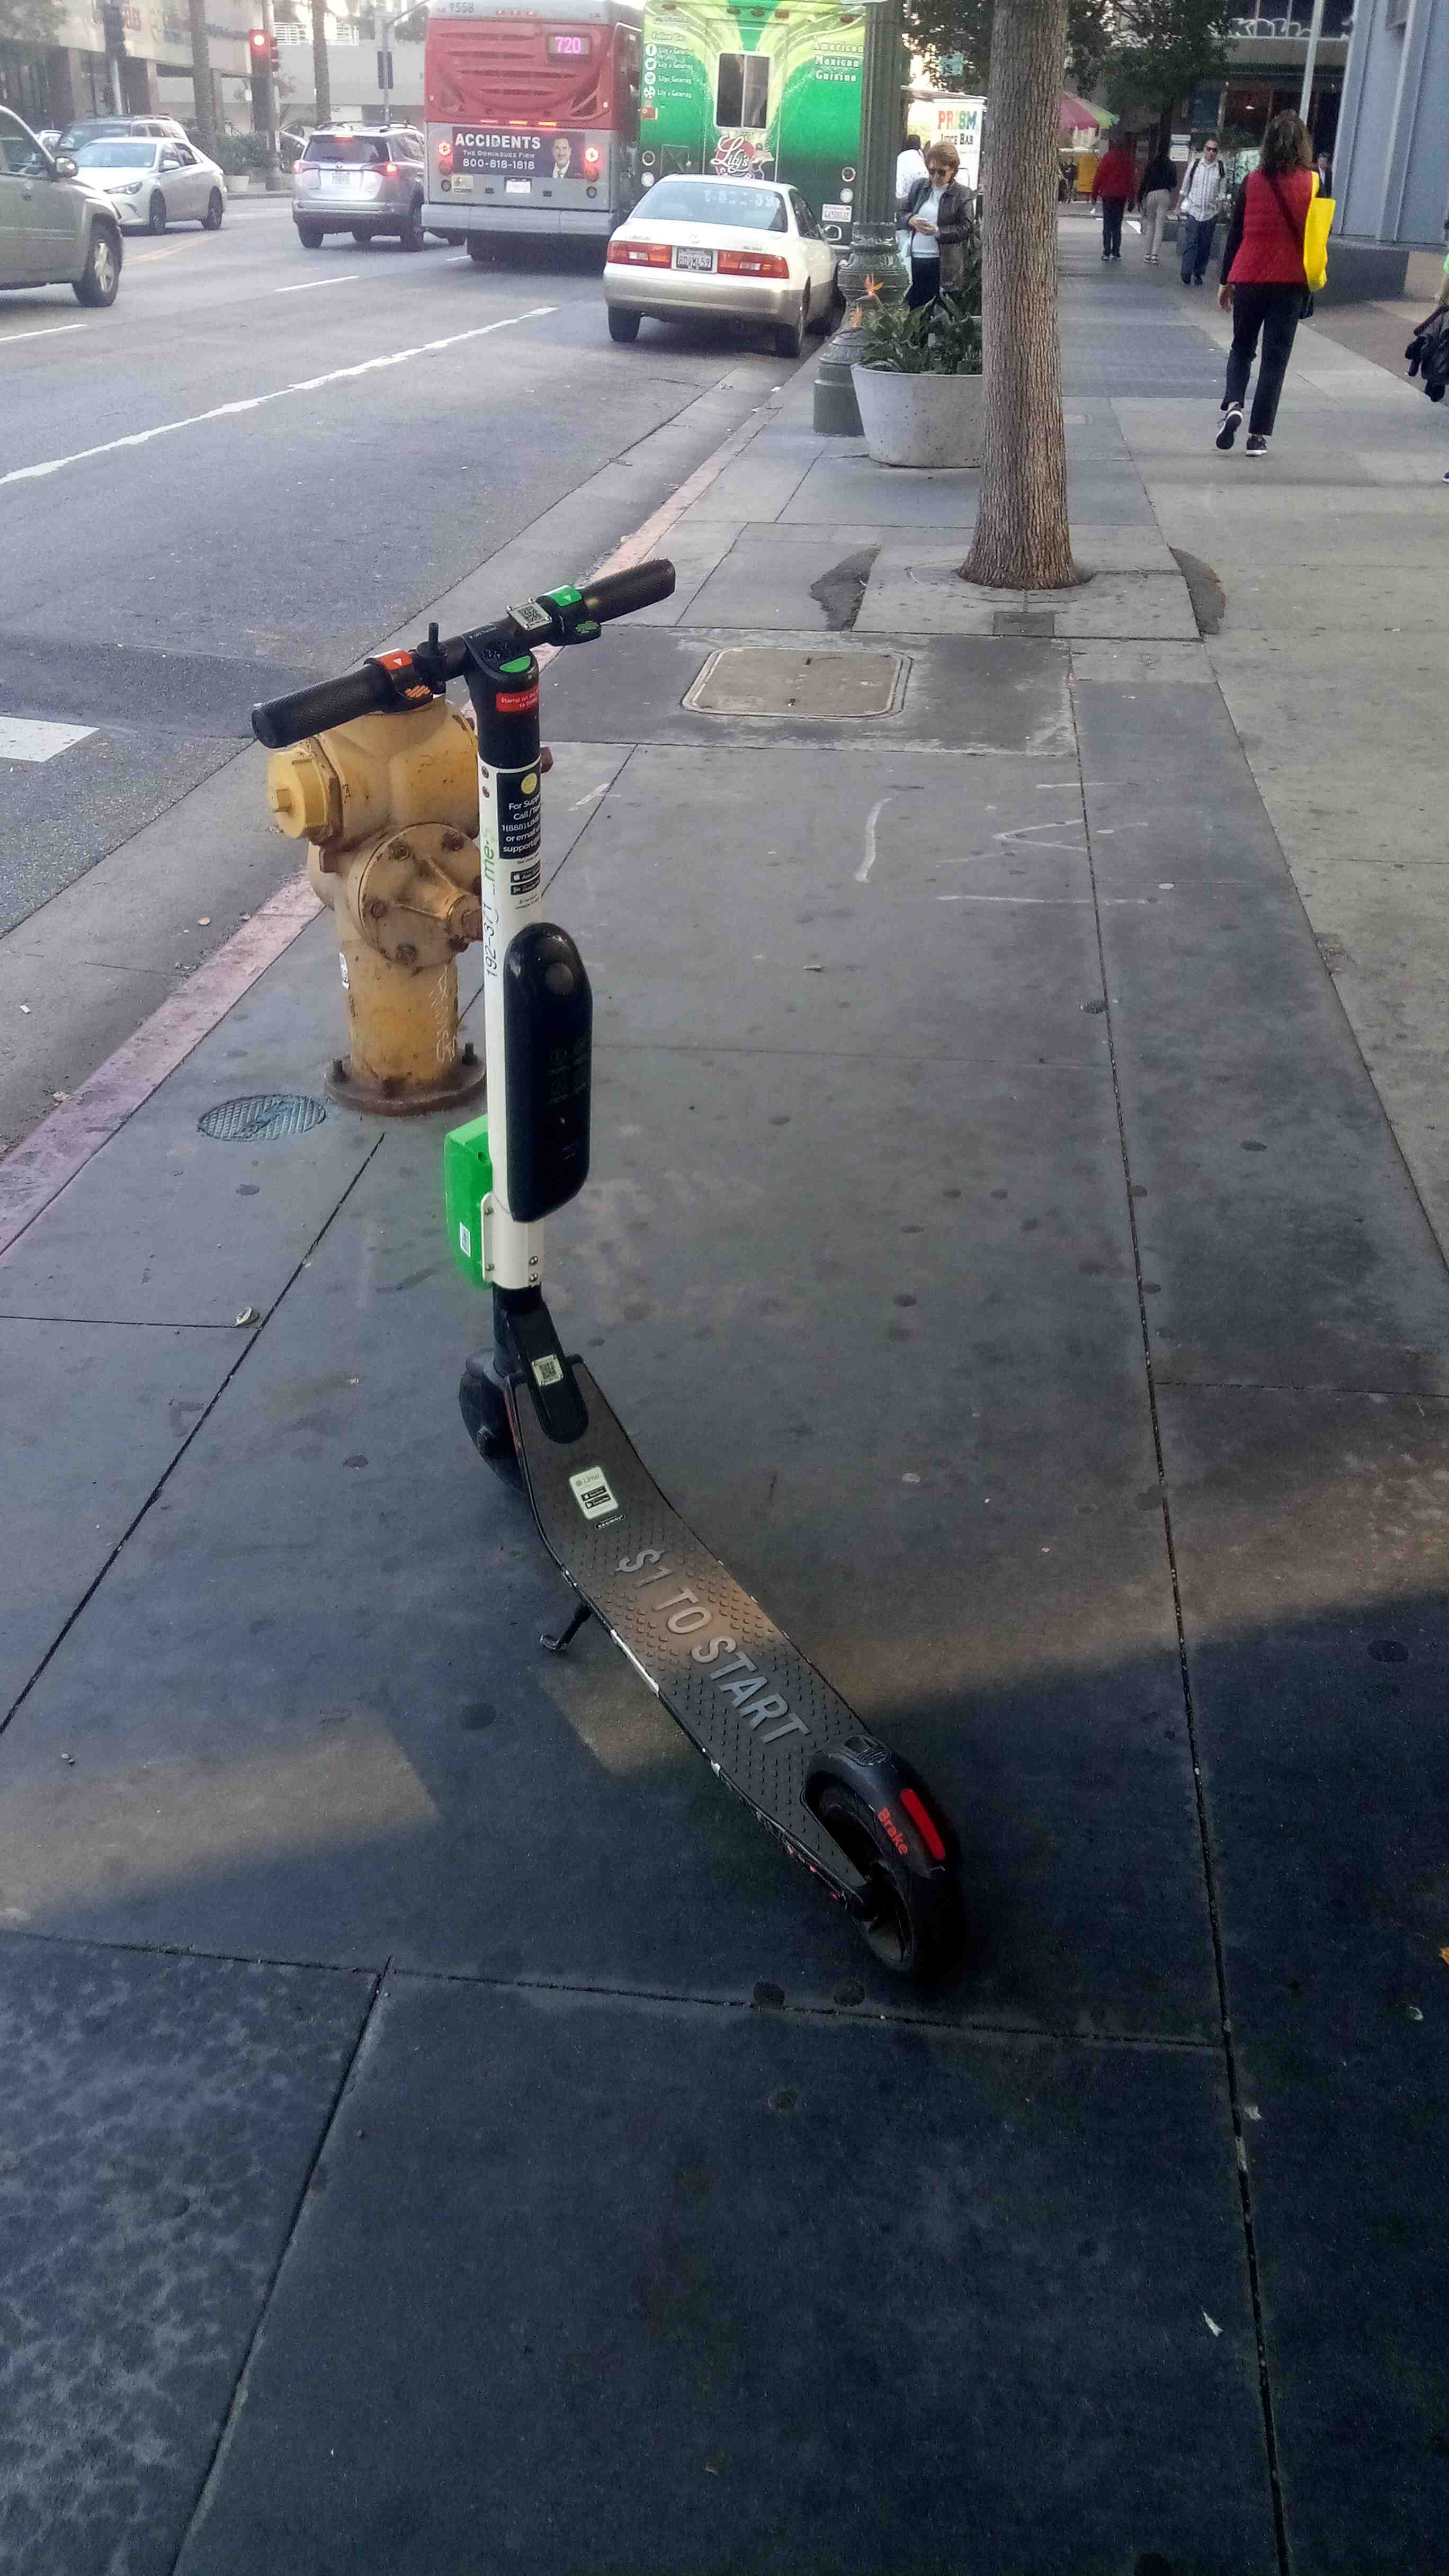scooter: (205, 545, 994, 2019)
